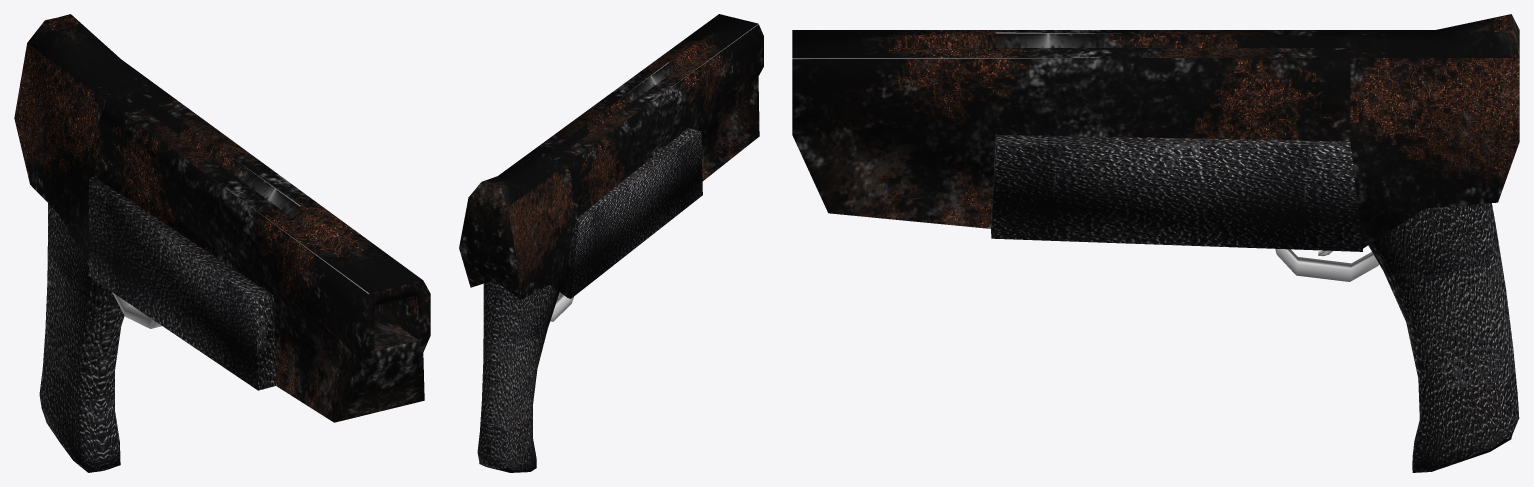
File: Gun.fbx
3 renders of one model, left to right at view 1: azimuth 30°, elevation 25°; view 2: azimuth 150°, elevation 25°; view 3: azimuth 270°, elevation 25°, orthographic. The views are drawn at different scales.
Visible parts, largest first — view 1: Pistol, Handle, Plane; view 2: Pistol, Handle; view 3: Pistol, Handle, Plane.
Part boxes in pixels (<box>): Pistol: <box>14,14,430,422</box>; Handle: <box>39,203,124,472</box>; Plane: <box>112,292,161,328</box>; Pistol: <box>459,14,763,299</box>; Handle: <box>477,279,559,472</box>; Pistol: <box>792,14,1519,251</box>; Handle: <box>1368,203,1519,472</box>; Plane: <box>1275,249,1379,281</box>.
Size of the model in its own units: 1.31 by 5.8 by 8.59.
